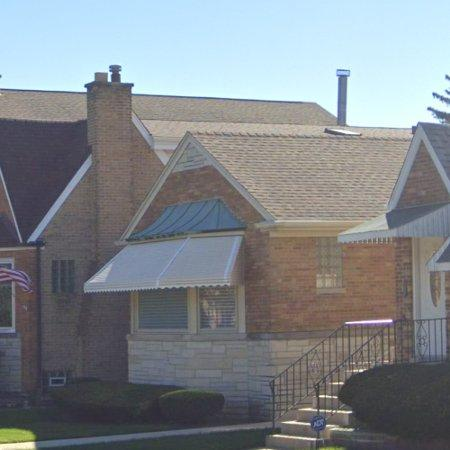chimneys: (85, 65, 138, 266), (338, 69, 351, 126)
